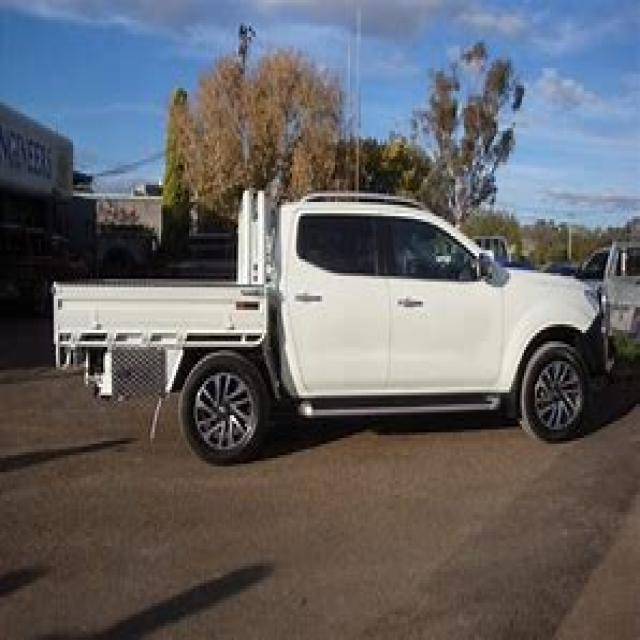light_vehicle: (38, 171, 622, 469)
